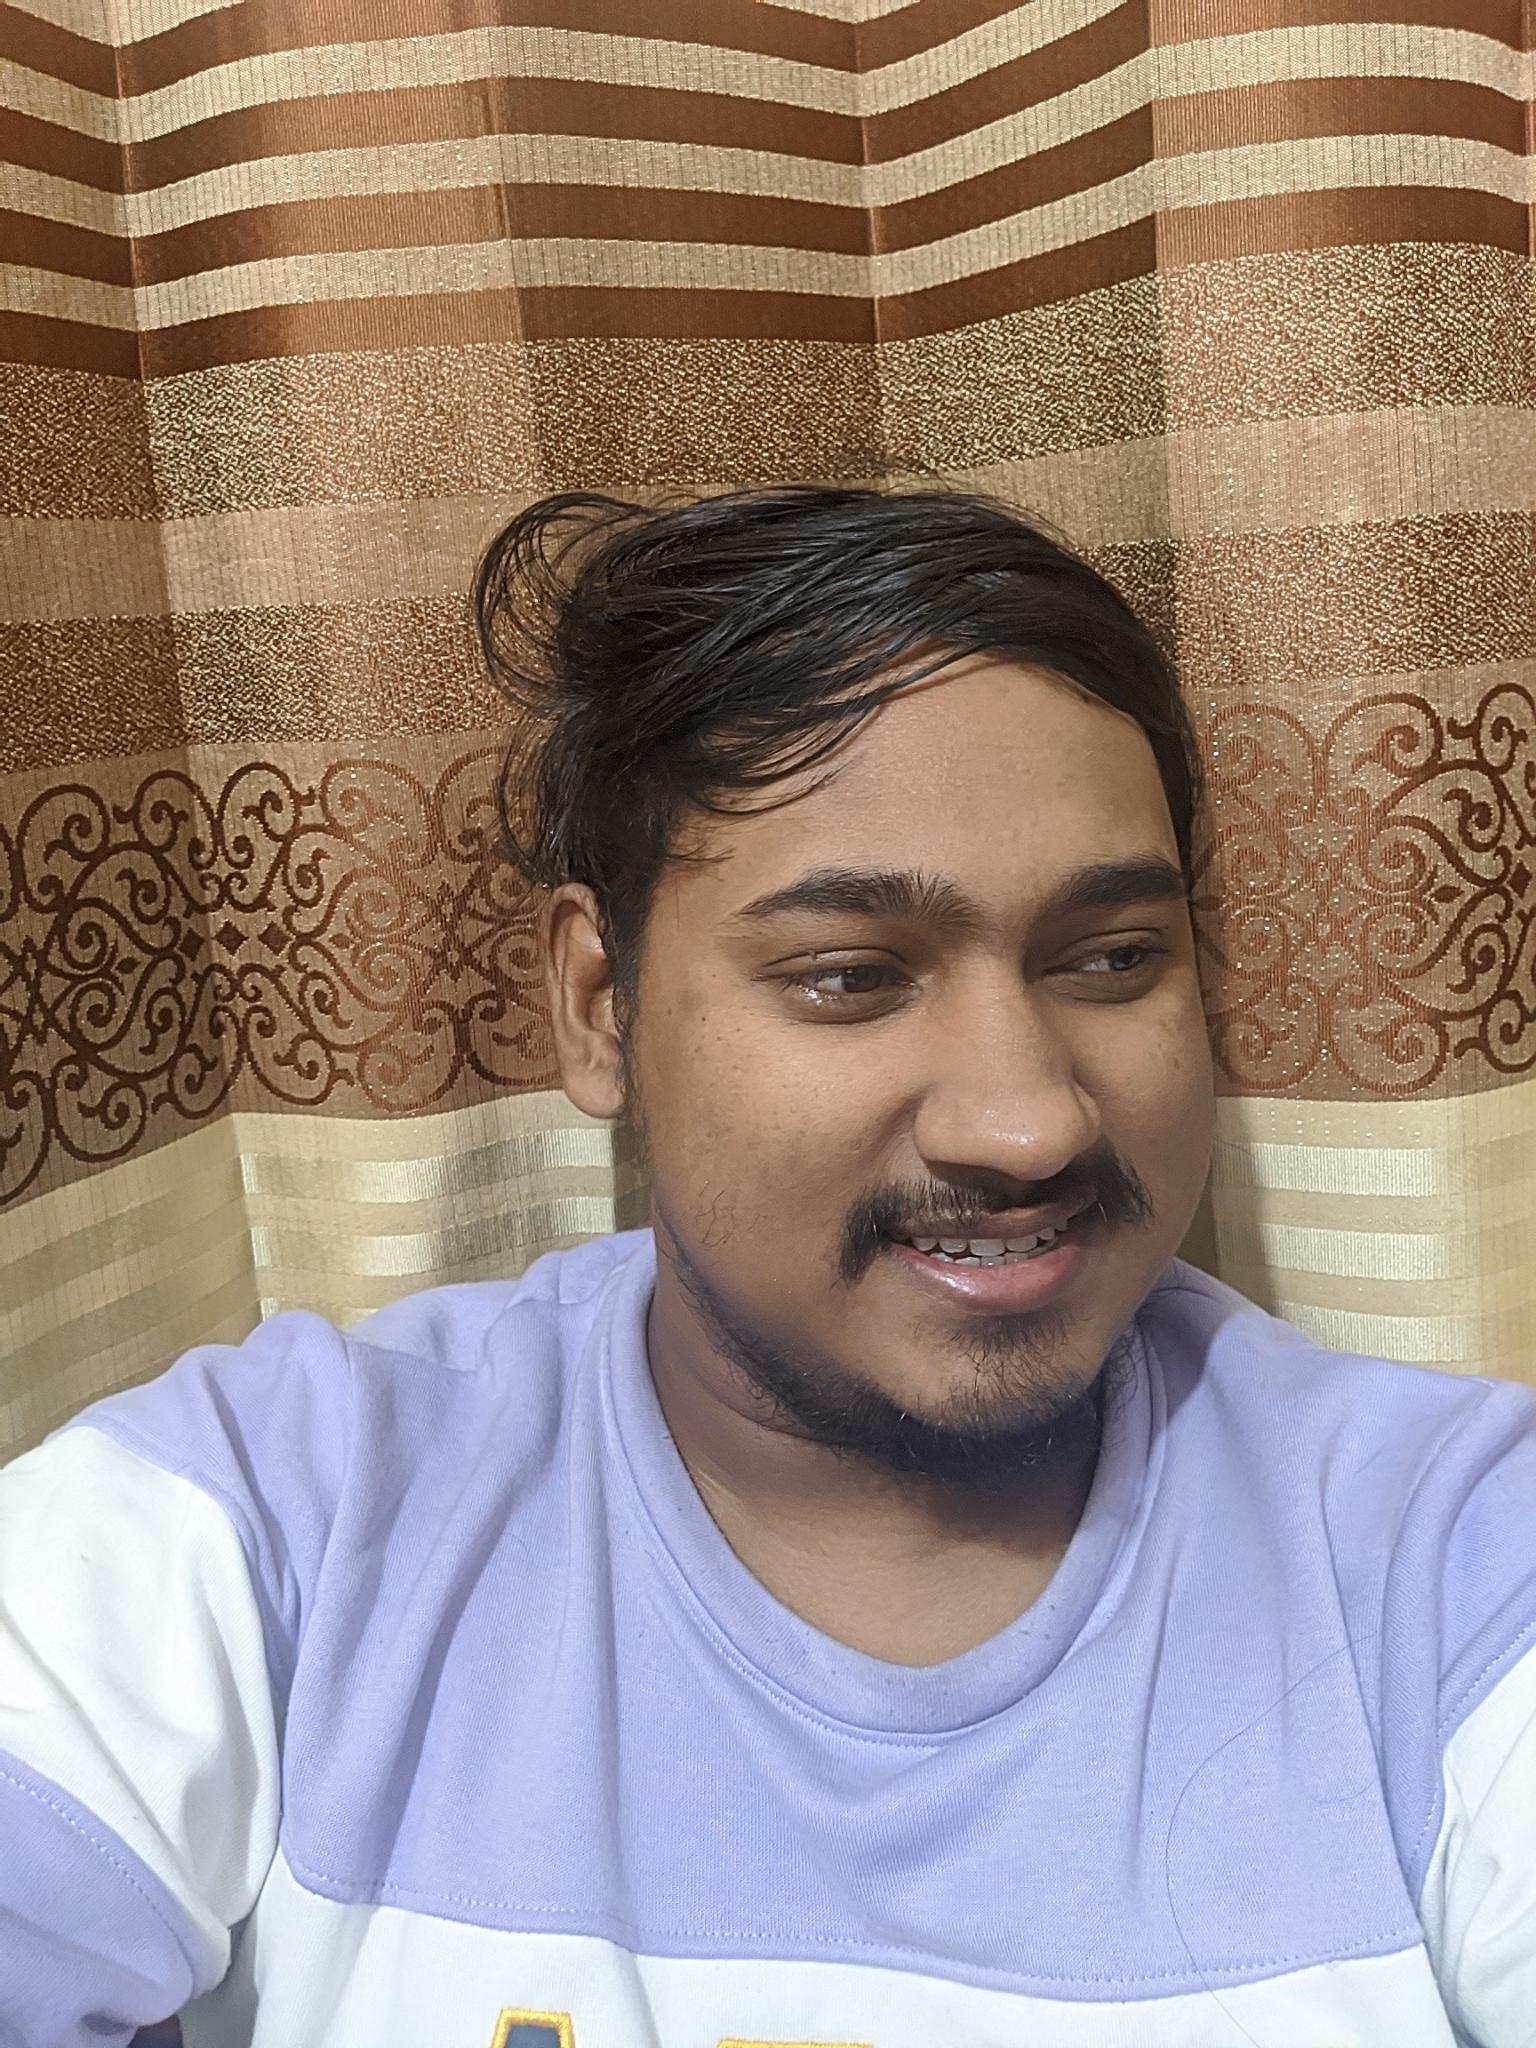Happy: (676, 779, 1244, 1472)
